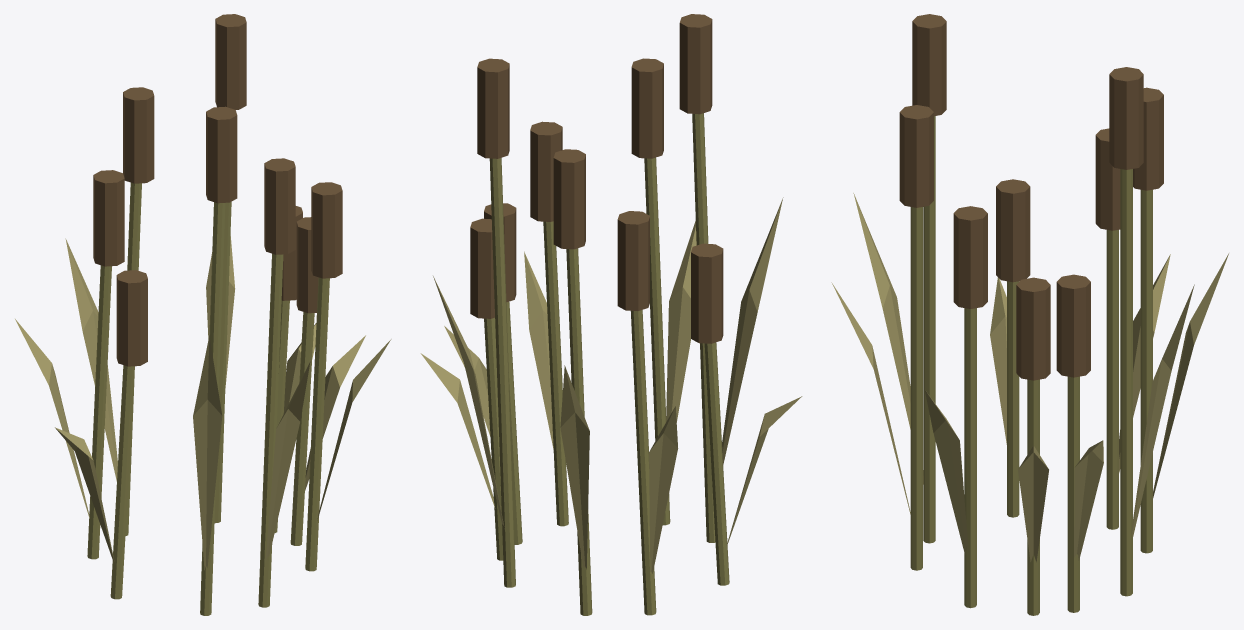
Rendered from cattail_clump.glb.
3 renders of one model, left to right at view 1: azimuth 30°, elevation 25°; view 2: azimuth 150°, elevation 25°; view 3: azimuth 270°, elevation 25°, orthographic. The views are drawn at different scales.
Parts seen in each view (by area): view 1: MG2 cattail_clump MG2 Seed heads, MG2 cattail_clump MG2 Reed stalk, MG2 cattail_clump MG2 Dry grass; view 2: MG2 cattail_clump MG2 Reed stalk, MG2 cattail_clump MG2 Seed heads, MG2 cattail_clump MG2 Dry grass; view 3: MG2 cattail_clump MG2 Reed stalk, MG2 cattail_clump MG2 Seed heads, MG2 cattail_clump MG2 Dry grass.
Boxes of the visible parts, left/top/right/bottom form: MG2 cattail_clump MG2 Seed heads: left=93, top=14, right=342, bottom=366; MG2 cattail_clump MG2 Reed stalk: left=87, top=182, right=329, bottom=615; MG2 cattail_clump MG2 Dry grass: left=15, top=236, right=391, bottom=570; MG2 cattail_clump MG2 Reed stalk: left=484, top=113, right=729, bottom=615; MG2 cattail_clump MG2 Seed heads: left=470, top=14, right=723, bottom=343; MG2 cattail_clump MG2 Dry grass: left=420, top=197, right=802, bottom=573; MG2 cattail_clump MG2 Reed stalk: left=910, top=116, right=1152, bottom=615; MG2 cattail_clump MG2 Seed heads: left=899, top=14, right=1163, bottom=380; MG2 cattail_clump MG2 Dry grass: left=831, top=193, right=1228, bottom=562.
Bounding box in the file's own units: 0.516 × 0.7455 × 0.5101.
